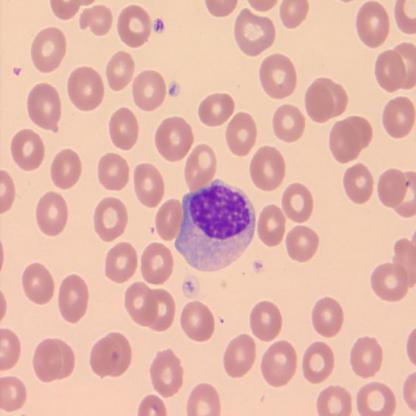Metamyelocyte: (172, 176, 258, 276)
